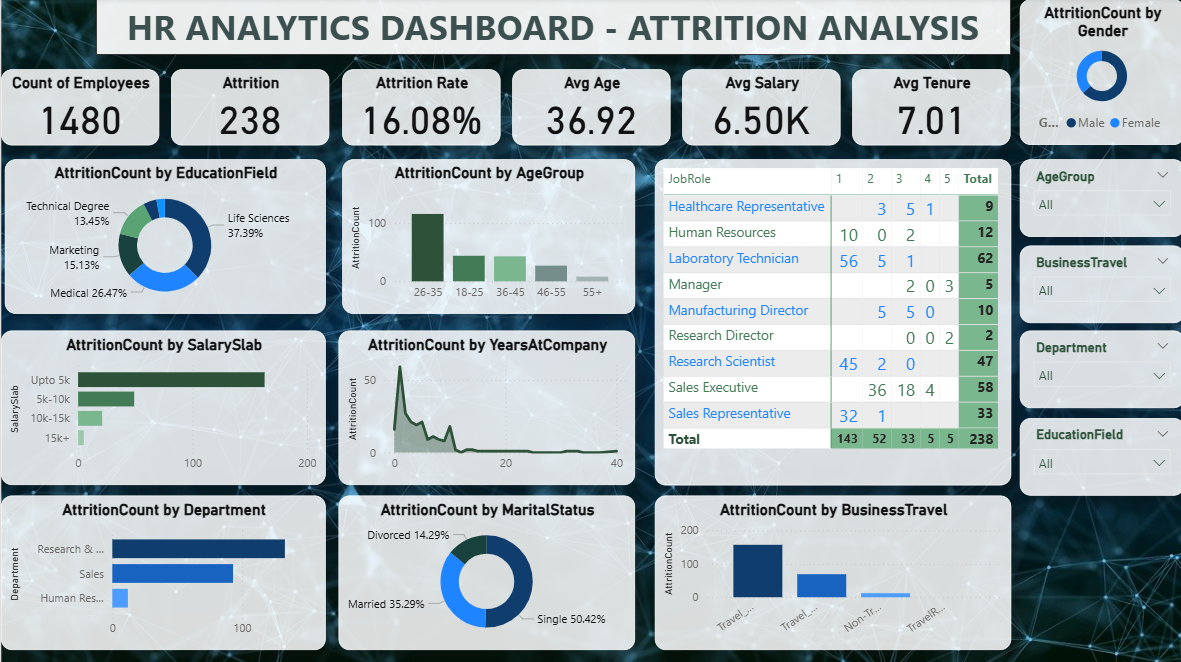

Layout of this report page (visuals, bound fields, positions):
{"tool":"powerbi","page":{"name":"Page 1","canvas":[1280,720],"ordinal":0},"visuals":[{"type":"textbox","box":[102.9,0,989.4,61.7],"z":0},{"type":"card","title":"Count of Employees","fields":{"Values":["CountNonNull(HR_Analytics.EmpID)"]},"box":[0,76.8,171.5,82.3],"z":1000},{"type":"card","title":"Attrition","fields":{"Values":["Sum(HR_Analytics.AttritionCount)"]},"box":[183.9,76.8,171.5,82.3],"z":2000},{"type":"card","title":"Attrition Rate","fields":{"Values":["HR_Analytics.AttritonRate"]},"box":[369.1,76.8,171.5,82.3],"z":3000},{"type":"card","title":"Avg Age","fields":{"Values":["Avg(HR_Analytics.Age)"]},"box":[553,76.8,171.5,82.3],"z":4000},{"type":"card","title":"Avg Salary","fields":{"Values":["Avg(HR_Analytics.MonthlyIncome)"]},"box":[736.9,76.8,171.5,82.3],"z":5000},{"type":"card","title":"Avg Tenure","fields":{"Values":["Avg(HR_Analytics.YearsAtCompany)"]},"box":[920.8,76.8,171.5,82.3],"z":6000},{"type":"donutChart","title":"AttritionCount by Gender","fields":{"Category":["HR_Analytics.Gender"],"Y":["Sum(HR_Analytics.AttritionCount)"]},"box":[1101.9,1.4,178.4,157.8],"z":7000},{"type":"donutChart","fields":{"Category":["HR_Analytics.EducationField","HR_Analytics.YearsAtCompany"],"Y":["Sum(HR_Analytics.AttritionCount)"]},"box":[4.1,174.3,347.2,167.4],"z":8000},{"type":"columnChart","fields":{"Category":["HR_Analytics.AgeGroup"],"Y":["Sum(HR_Analytics.AttritionCount)"]},"box":[369.1,174.3,317,167.4],"z":9000},{"type":"pivotTable","fields":{"Rows":["HR_Analytics.JobRole"],"Columns":["HR_Analytics.JobLevel"],"Values":["Sum(HR_Analytics.AttritionCount)"]},"box":[706.7,174.3,385.6,352.7],"z":10000},{"type":"barChart","fields":{"Y":["Sum(HR_Analytics.AttritionCount)"],"Category":["HR_Analytics.SalarySlab"]},"box":[0,359.5,351.3,167.4],"z":11000},{"type":"areaChart","fields":{"Category":["HR_Analytics.YearsAtCompany"],"Y":["Sum(HR_Analytics.AttritionCount)"]},"box":[365,359.5,321.1,167.4],"z":12000},{"type":"barChart","fields":{"Category":["HR_Analytics.Department"],"Y":["Sum(HR_Analytics.AttritionCount)"]},"box":[0,537.9,351.3,167.4],"z":13000},{"type":"donutChart","fields":{"Y":["Sum(HR_Analytics.AttritionCount)"],"Category":["HR_Analytics.MaritalStatus"]},"box":[365,537.9,321.1,167.4],"z":14000},{"type":"columnChart","fields":{"Y":["Sum(HR_Analytics.AttritionCount)"],"Category":["HR_Analytics.BusinessTravel"]},"box":[706.7,537.9,385.6,167.4],"z":15000},{"type":"slicer","fields":{"Values":["HR_Analytics.AgeGroup"]},"box":[1101.9,174.3,178.4,83.7],"z":16000},{"type":"slicer","fields":{"Values":["HR_Analytics.BusinessTravel"]},"box":[1101.9,267.6,178.4,83.7],"z":16001},{"type":"slicer","fields":{"Values":["HR_Analytics.Department"]},"box":[1101.9,359.5,178.4,83.7],"z":16002},{"type":"slicer","fields":{"Values":["HR_Analytics.EducationField"]},"box":[1101.9,454.2,178.4,83.7],"z":16003}]}

Visuals, with their boxes in screenshot pixels (x1, y1, x2, y2), scaled from the page's 1280x720 canvas onto the 1181x662 screenshot:
textbox: detection(95, 0, 1008, 57)
"Count of Employees" card: detection(0, 71, 158, 146)
"Attrition" card: detection(170, 71, 328, 146)
"Attrition Rate" card: detection(341, 71, 499, 146)
"Avg Age" card: detection(510, 71, 668, 146)
"Avg Salary" card: detection(680, 71, 838, 146)
"Avg Tenure" card: detection(850, 71, 1008, 146)
"AttritionCount by Gender" donutChart: detection(1017, 1, 1180, 146)
donutChart - HR_Analytics.EducationField x HR_Analytics.YearsAtCompany: detection(4, 160, 324, 314)
columnChart - HR_Analytics.AgeGroup x Sum(HR_Analytics.AttritionCount): detection(341, 160, 633, 314)
pivotTable - HR_Analytics.JobRole x HR_Analytics.JobLevel: detection(652, 160, 1008, 485)
barChart - Sum(HR_Analytics.AttritionCount) x HR_Analytics.SalarySlab: detection(0, 331, 324, 484)
areaChart - HR_Analytics.YearsAtCompany x Sum(HR_Analytics.AttritionCount): detection(337, 331, 633, 484)
barChart - HR_Analytics.Department x Sum(HR_Analytics.AttritionCount): detection(0, 495, 324, 648)
donutChart - Sum(HR_Analytics.AttritionCount) x HR_Analytics.MaritalStatus: detection(337, 495, 633, 648)
columnChart - Sum(HR_Analytics.AttritionCount) x HR_Analytics.BusinessTravel: detection(652, 495, 1008, 648)
slicer - HR_Analytics.AgeGroup: detection(1017, 160, 1180, 237)
slicer - HR_Analytics.BusinessTravel: detection(1017, 246, 1180, 323)
slicer - HR_Analytics.Department: detection(1017, 331, 1180, 407)
slicer - HR_Analytics.EducationField: detection(1017, 418, 1180, 495)
